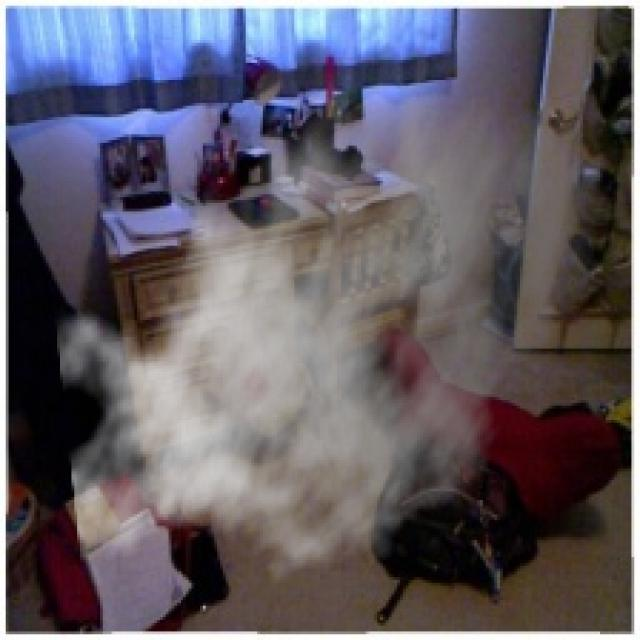smoke: (54, 34, 612, 600)
